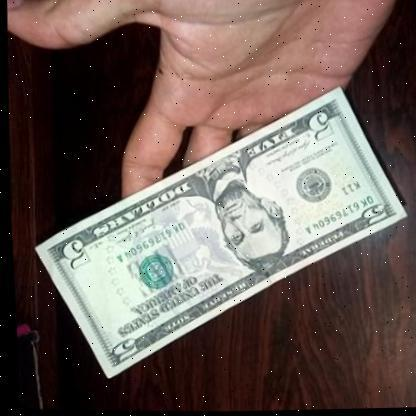five-front: (33, 78, 416, 391)
